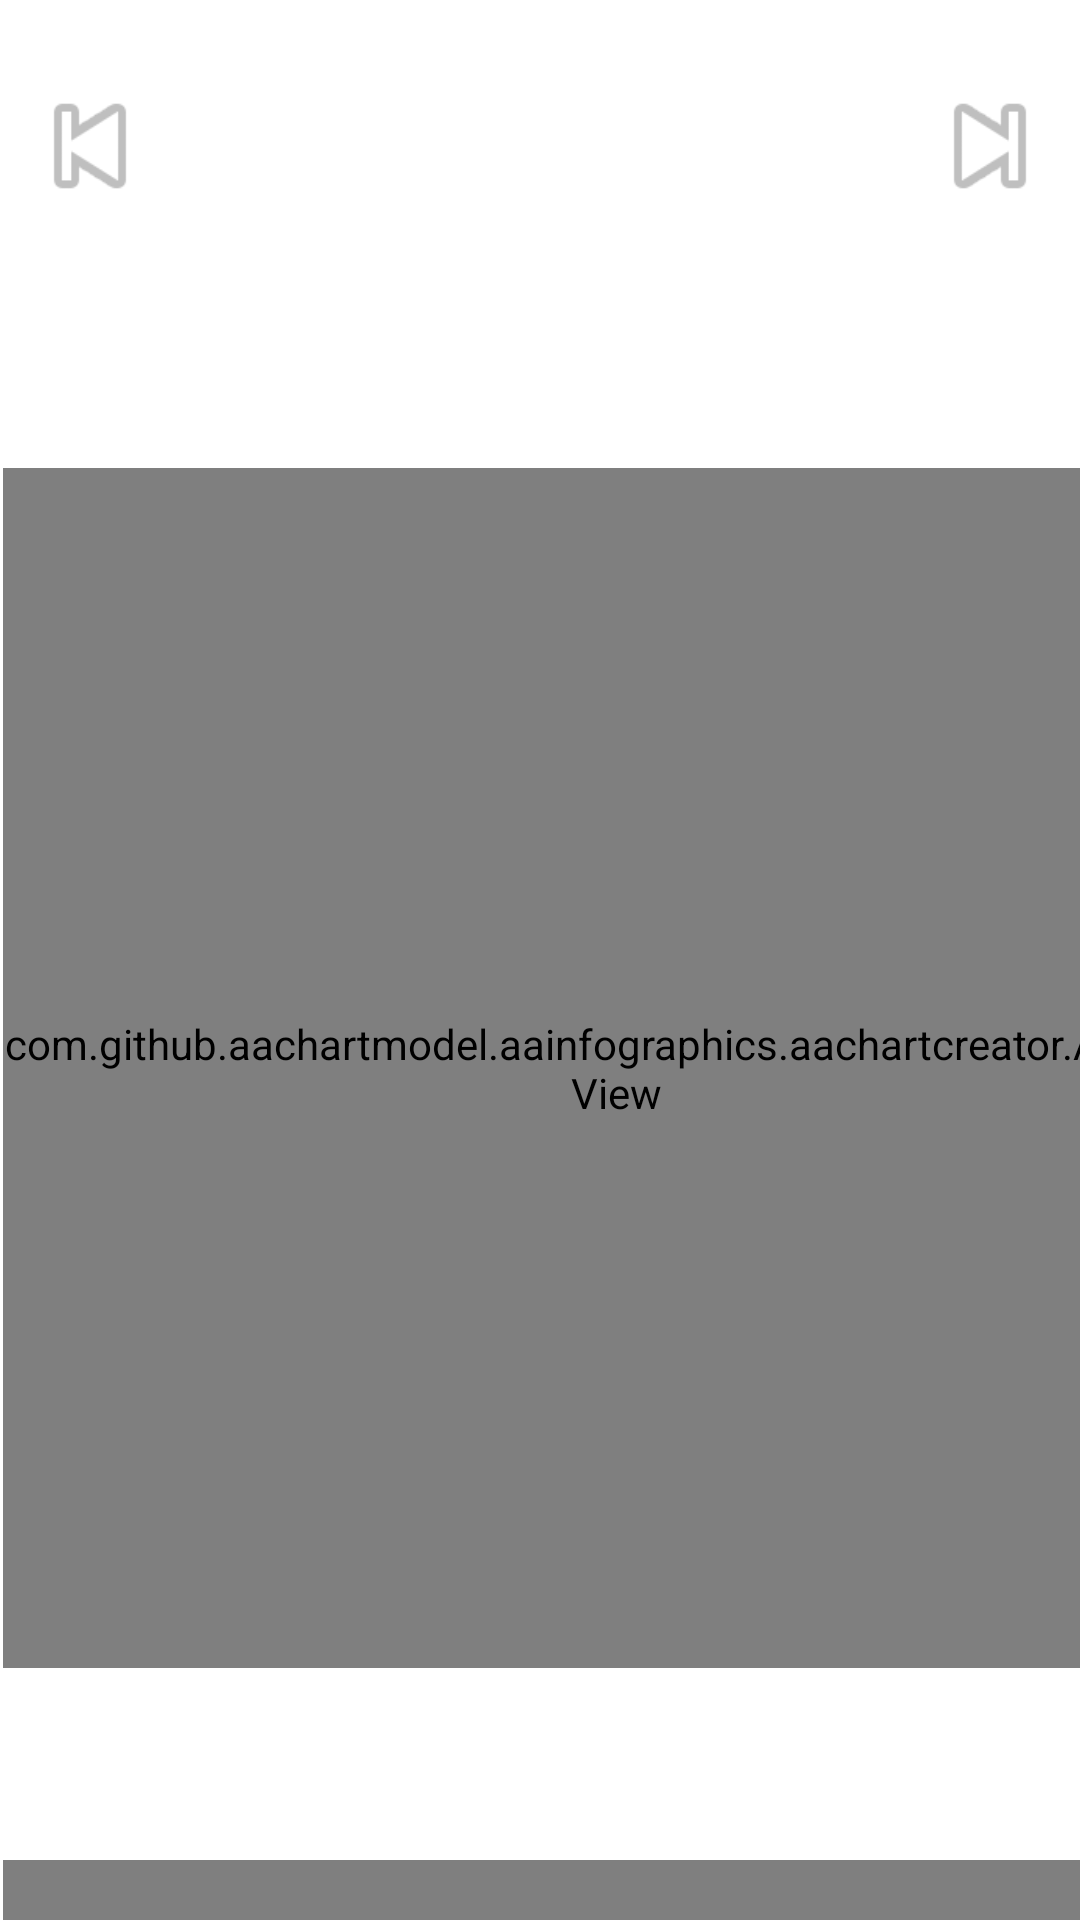

Icons on this 1080x1920 Android screen, each with the point to tap as (x,y):
next: (990,146)
previous: (90,146)
